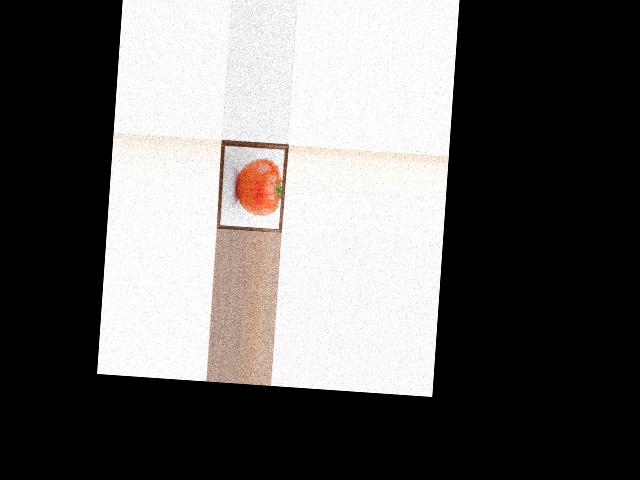tomato: (234, 156, 284, 216)
